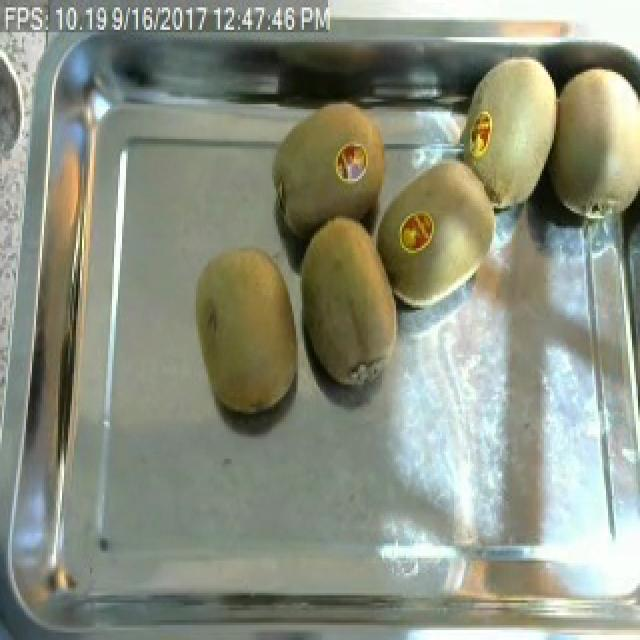Fruit: (286, 206, 412, 399), (184, 238, 310, 424), (384, 146, 510, 320), (270, 92, 396, 253), (450, 42, 558, 223), (546, 50, 640, 238)
